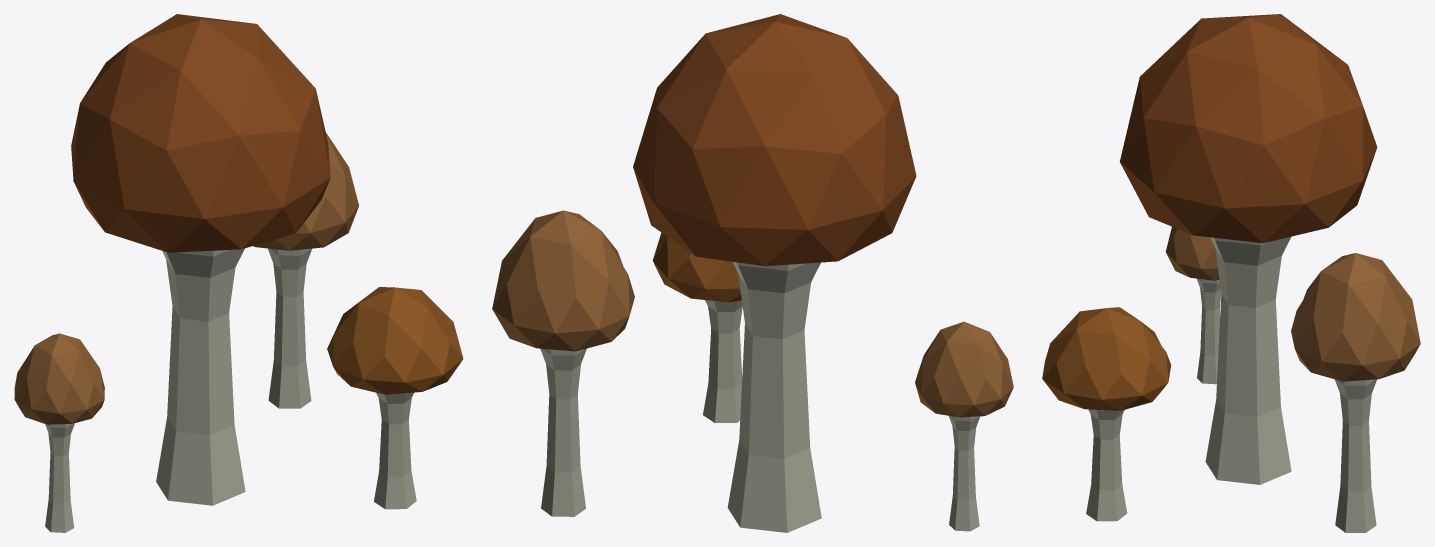
The model's file is NHP_Mushroom_A1_03.fbx.
3 views of the same model, side by side, from view 1: azimuth 30°, elevation 25°; view 2: azimuth 150°, elevation 25°; view 3: azimuth 270°, elevation 25° (orthographic). The views are drawn at different scales.
Parts seen in each view (by area): view 1: NHP_Mushroom_A1_03_LOD0; view 2: NHP_Mushroom_A1_03_LOD0; view 3: NHP_Mushroom_A1_03_LOD0.
Part boxes in pixels (x1,y1,x2,y2): NHP_Mushroom_A1_03_LOD0: (14,14,463,532); NHP_Mushroom_A1_03_LOD0: (492,14,1013,532); NHP_Mushroom_A1_03_LOD0: (1042,14,1420,532).
Size of what is drawn, in the model's own units: 0.4202 by 0.4627 by 0.3535.
